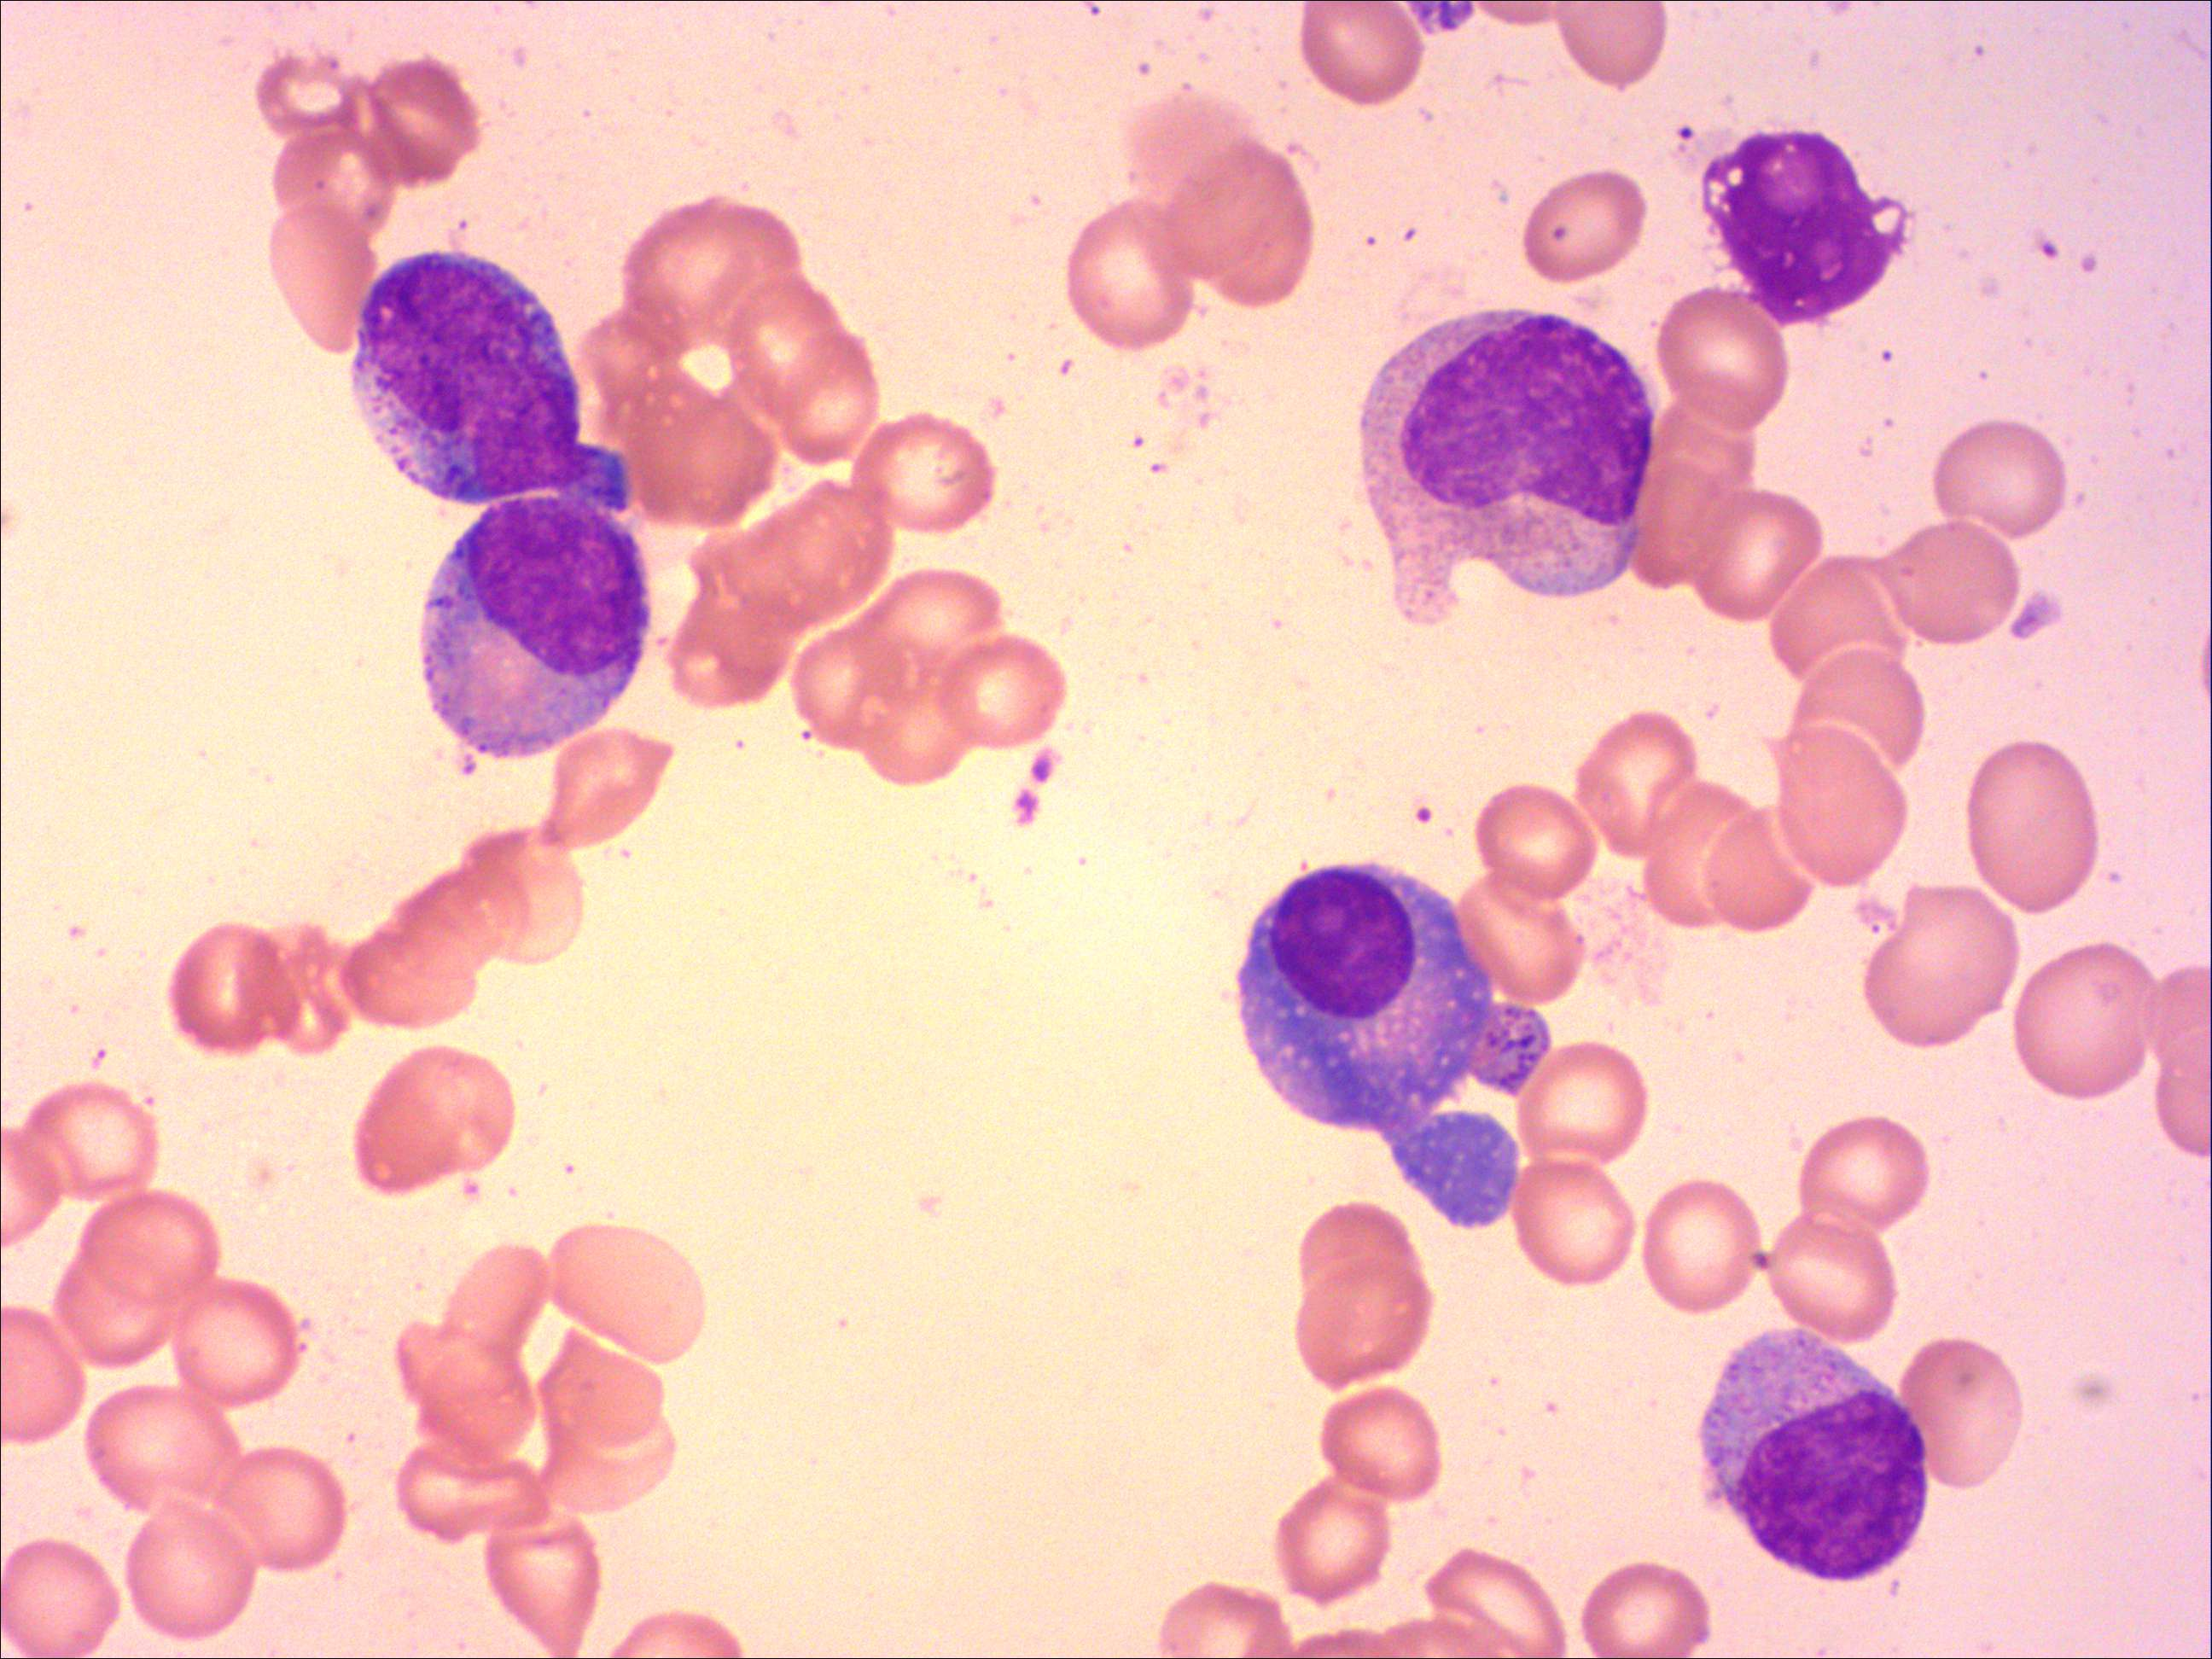3: (1353, 303, 1662, 634), (343, 247, 639, 525), (415, 495, 657, 765)
51: (1230, 859, 1555, 1230)
x: (1691, 1323, 1932, 1588), (1695, 124, 1916, 335)
